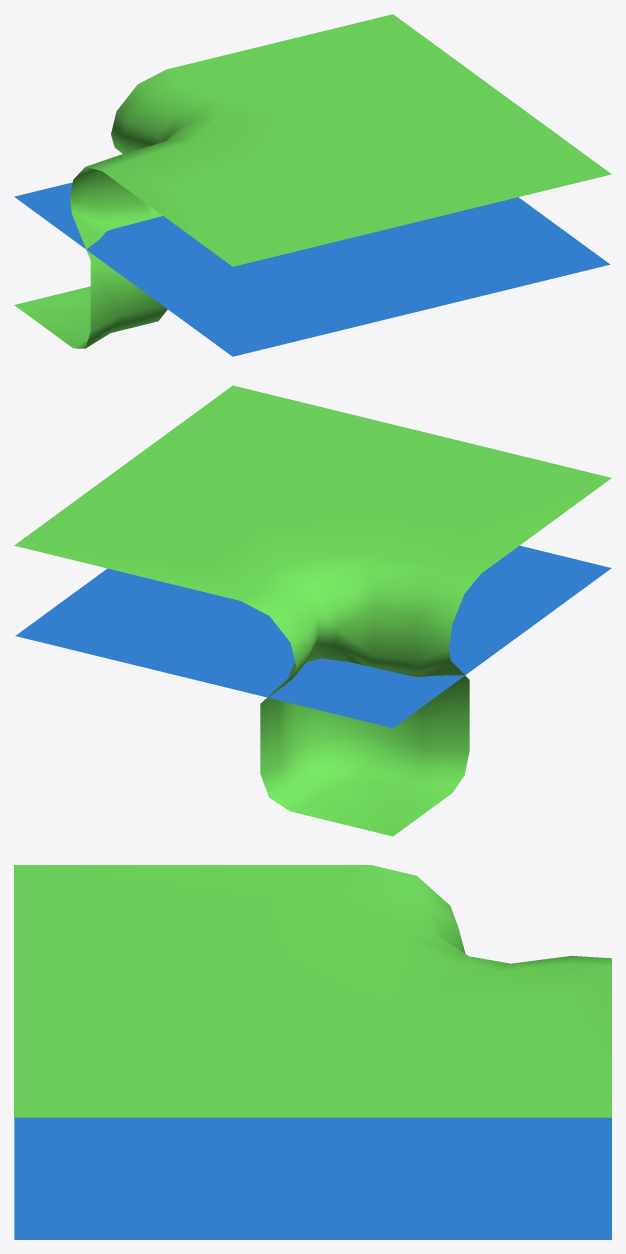
Rendered from River_Corner_B_Mesh.fbx.
The picture shows the model from 3 angles, top to bottom: view 1: azimuth 30°, elevation 25°; view 2: azimuth 150°, elevation 25°; view 3: azimuth 270°, elevation 25°; orthographic projection. The views are drawn at different scales.
Parts seen in each view (by area): view 1: River_Corner_B; view 2: River_Corner_B; view 3: River_Corner_B.
Boxes of the visible parts, x1,y1,x2,y2 form: River_Corner_B: (14,14,611,356); River_Corner_B: (14,385,611,836); River_Corner_B: (14,865,611,1239).
Bounding box in the file's own units: 200 × 200 × 100.
